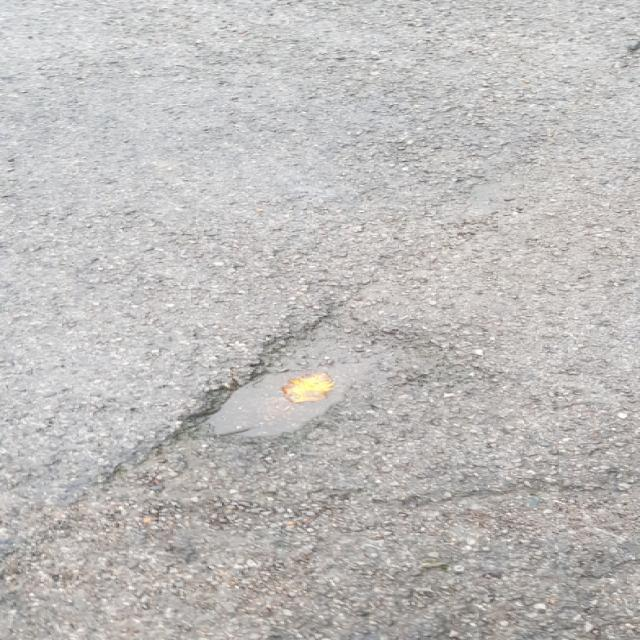pothole: (172, 304, 444, 448)
